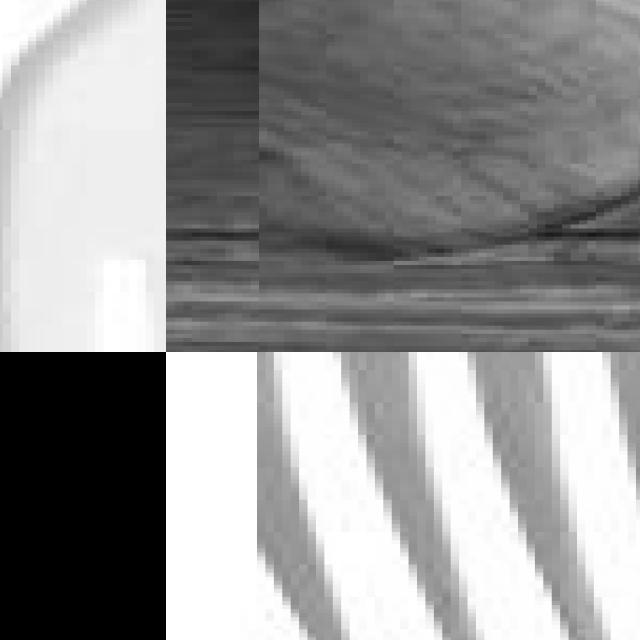forks: (257, 352, 640, 640), (0, 0, 166, 352)
spoons: (259, 0, 640, 302)
